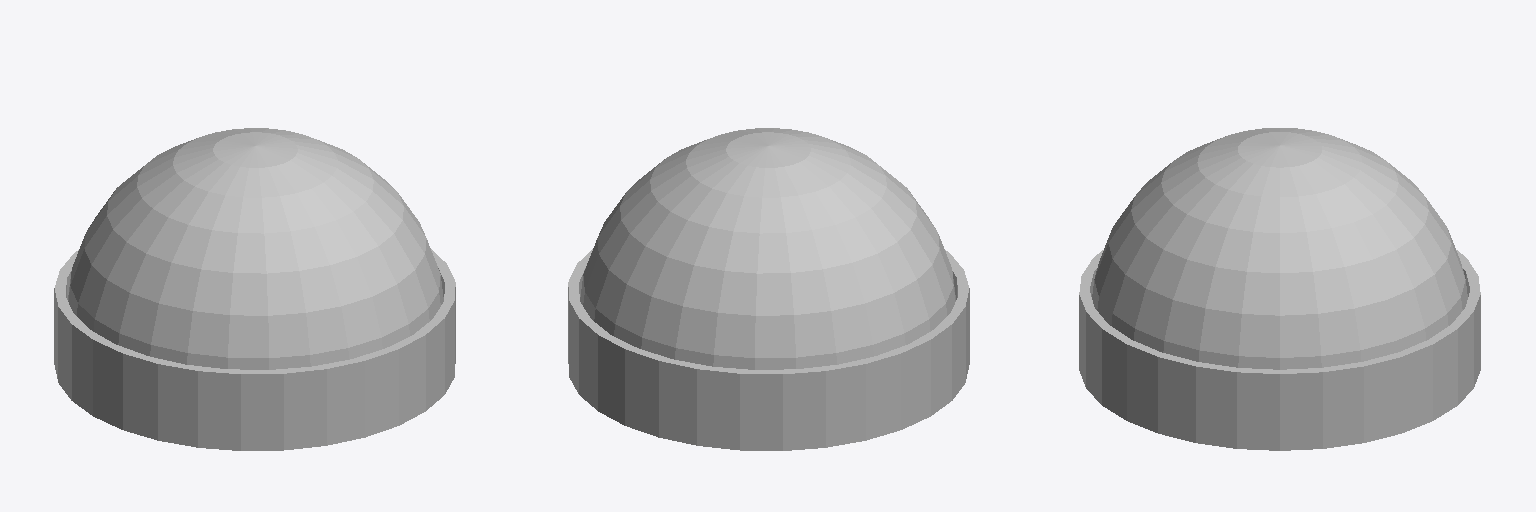
The model's file is Knopka.obj.
The picture shows the model from 3 angles: view 1: azimuth 30°, elevation 25°; view 2: azimuth 150°, elevation 25°; view 3: azimuth 270°, elevation 25°; orthographic projection.
Visible parts, largest first — view 1: MeshBody3; view 2: MeshBody3; view 3: MeshBody3.
Boxes of the visible parts, box(x1,y1,x2,y2) form: MeshBody3: box(54, 128, 455, 450); MeshBody3: box(568, 128, 969, 450); MeshBody3: box(1079, 128, 1480, 450).
Size of the model in its own units: 18.94 by 11.5 by 18.97.